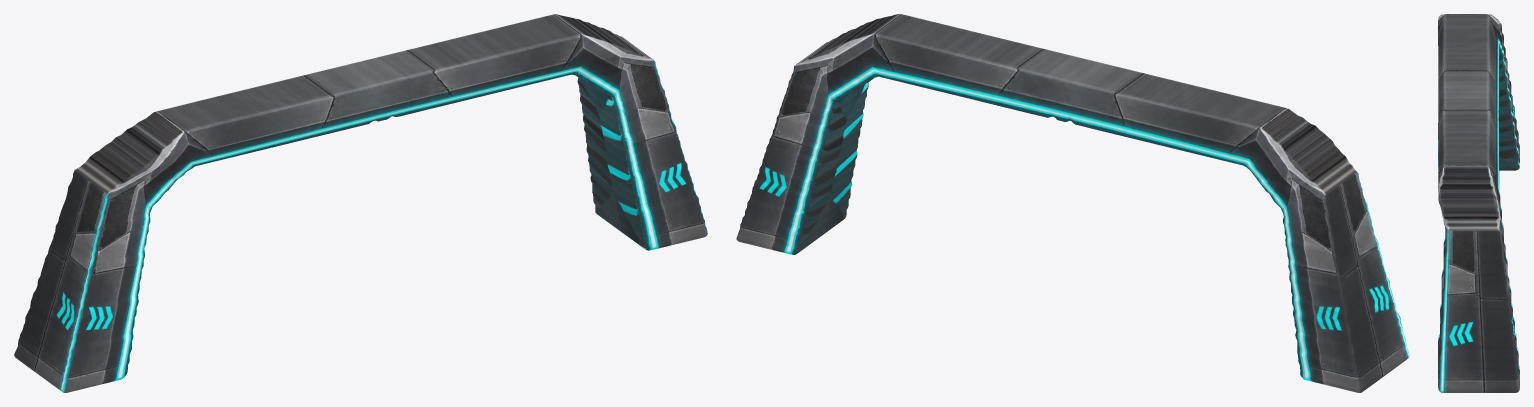
The model's file is gate-checkpoint.glb.
The picture shows the model from 3 angles, left to right: view 1: azimuth 30°, elevation 25°; view 2: azimuth 150°, elevation 25°; view 3: azimuth 270°, elevation 25°; orthographic projection. The views are drawn at different scales.
Parts seen in each view (by area): view 1: gate-checkpoint; view 2: gate-checkpoint; view 3: gate-checkpoint.
Part boxes in pixels (x1=…): gate-checkpoint: x1=14, y1=14, x2=707, y2=392; gate-checkpoint: x1=736, y1=14, x2=1409, y2=392; gate-checkpoint: x1=1438, y1=14, x2=1519, y2=392.
Size of the model in its own units: 32 by 10.94 by 4.49.
Materials: 1 (1 with a texture image).
